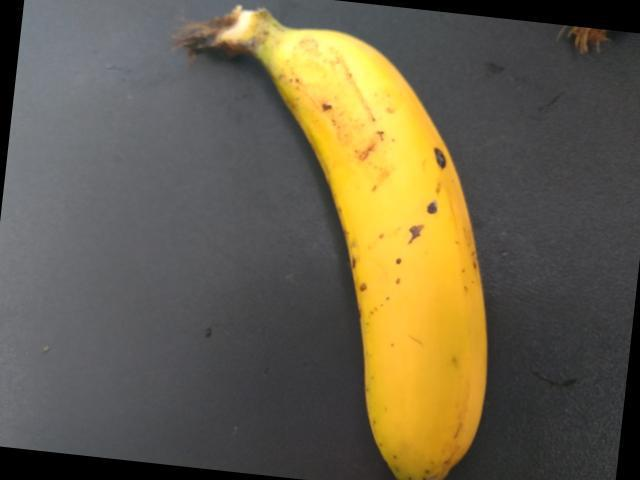ripe: (271, 54, 561, 479)
